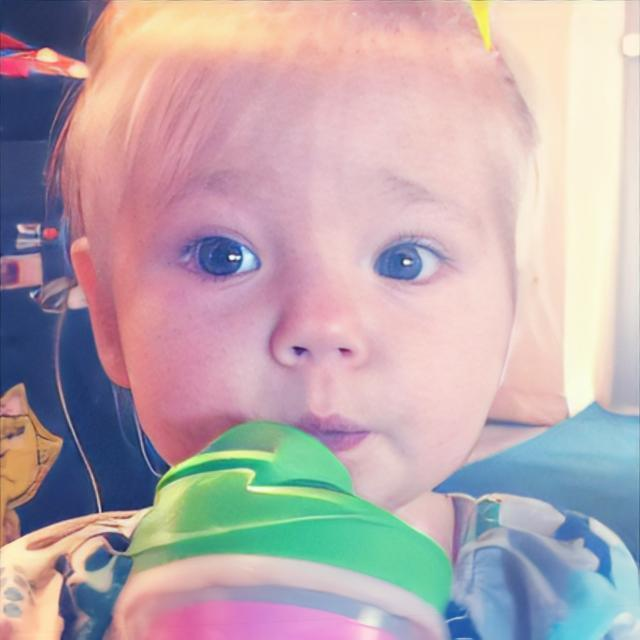fear: (108, 11, 517, 528)
